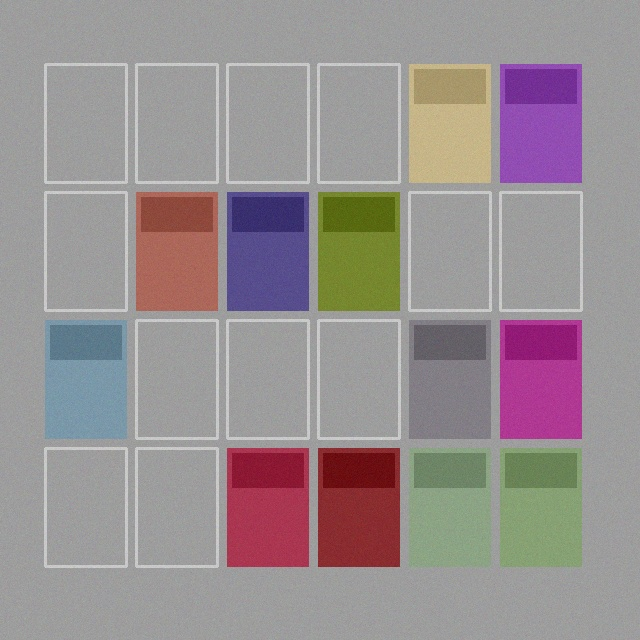space-empty: (45, 64, 126, 182), (136, 64, 217, 182), (227, 64, 308, 182), (318, 64, 399, 182), (45, 192, 126, 310), (409, 192, 490, 310), (500, 192, 581, 310), (136, 320, 217, 438), (227, 320, 308, 438), (318, 320, 399, 438), (45, 448, 126, 566), (136, 448, 217, 566)
space-occupied: (409, 64, 490, 182), (500, 64, 581, 182), (136, 192, 217, 310), (227, 192, 308, 310), (318, 192, 399, 310), (45, 320, 126, 438), (409, 320, 490, 438), (500, 320, 581, 438), (227, 448, 308, 566), (318, 448, 399, 566), (409, 448, 490, 566), (500, 448, 581, 566)
